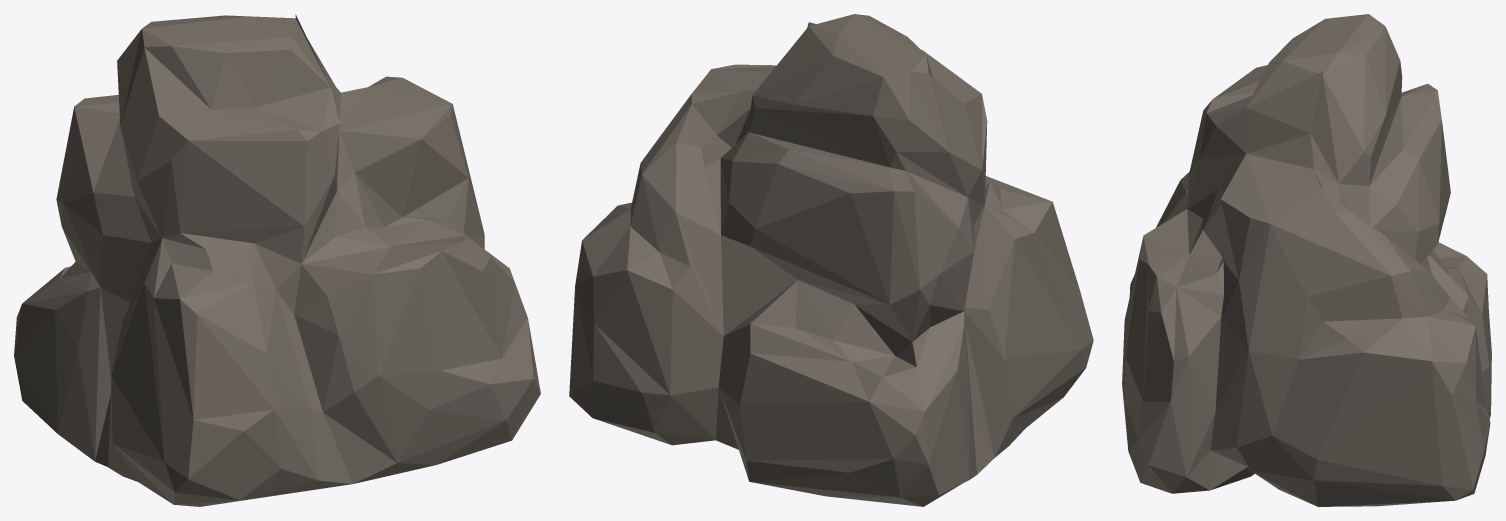
File: SM_Env_Rock_Large_05.glb
3 views of the same model, side by side, from view 1: azimuth 30°, elevation 25°; view 2: azimuth 150°, elevation 25°; view 3: azimuth 270°, elevation 25° (orthographic). The views are drawn at different scales.
Parts seen in each view (by area): view 1: SM_Env_Rock_Large_05_part00; view 2: SM_Env_Rock_Large_05_part00; view 3: SM_Env_Rock_Large_05_part00.
Part boxes in pixels (x1,y1,x2,y2): SM_Env_Rock_Large_05_part00: (14,14,540,506); SM_Env_Rock_Large_05_part00: (569,14,1093,506); SM_Env_Rock_Large_05_part00: (1122,14,1491,506).
Size of the model in its own units: 4.95 by 5.18 by 4.44.
Materials: 1 (1 with a texture image).
